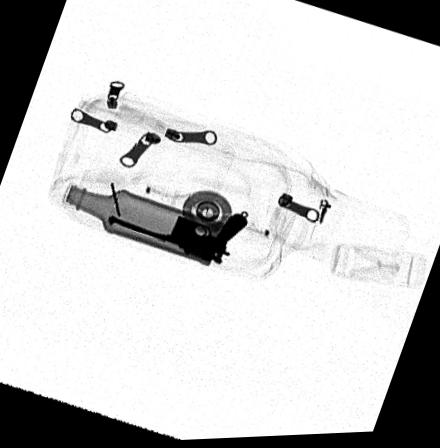Gun: (107, 214, 250, 266)
